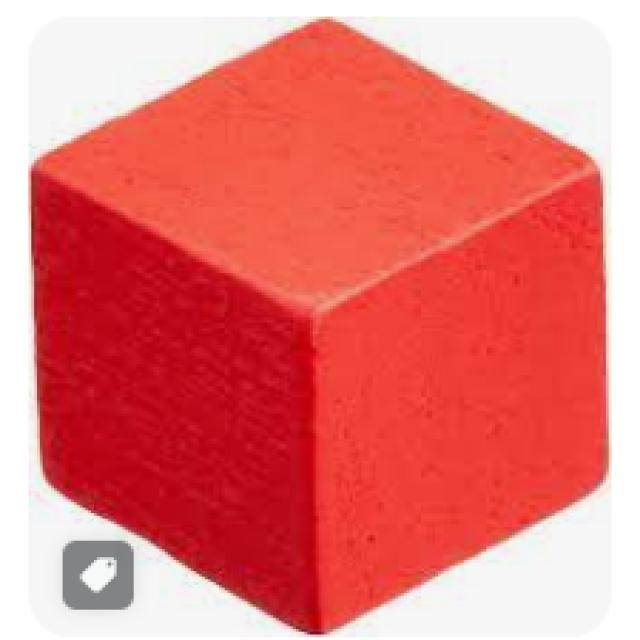red cube: (25, 13, 612, 639)
